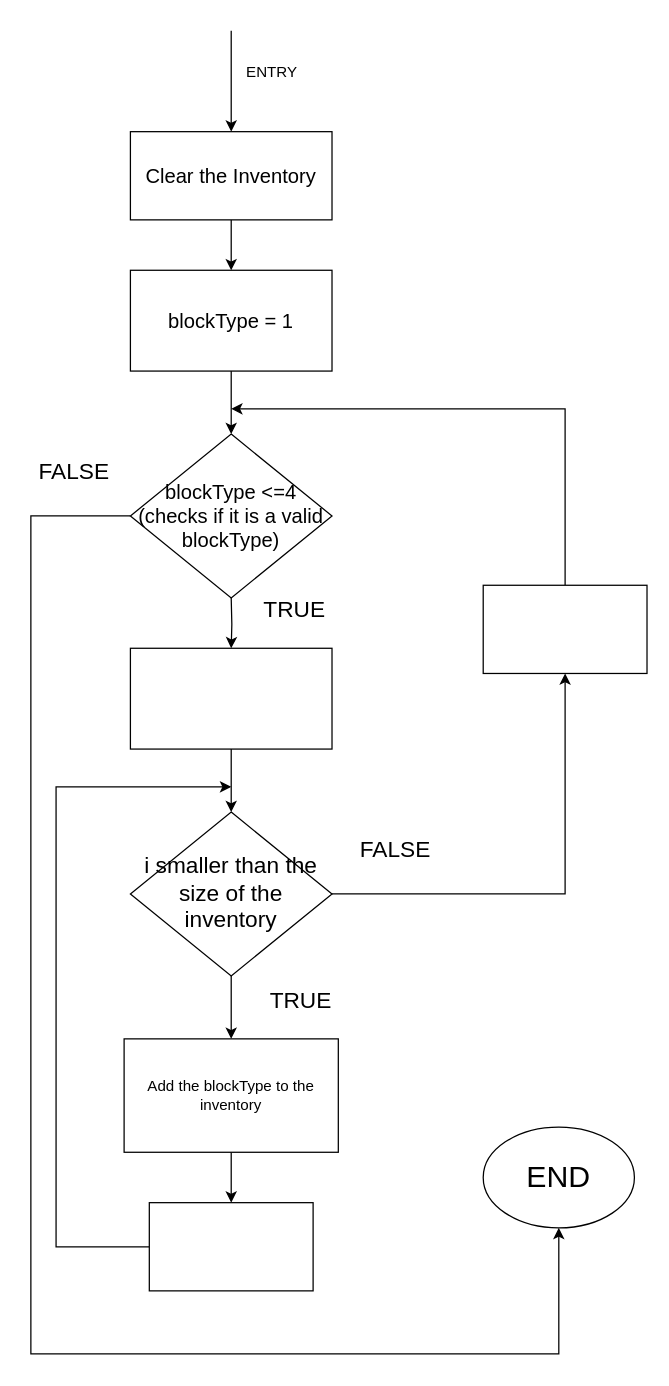
This 669x1386 diagram has some shape labels left out. Here are the shapes that lost their labels. From the top down, the box of each, then its label:
(482, 584, 647, 673): increment blockType by one
(129, 647, 332, 749): i = 0
(148, 1201, 313, 1291): increment i by one
